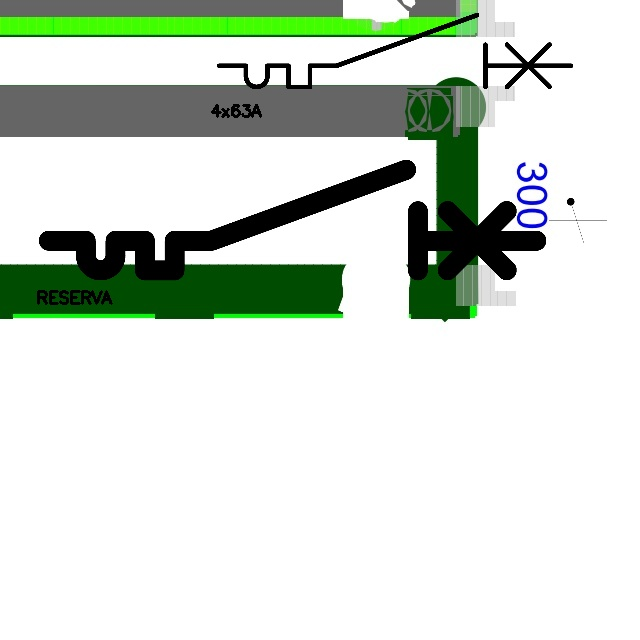interruptor_termomagnetico: (36, 157, 549, 283), (210, 6, 580, 96)
